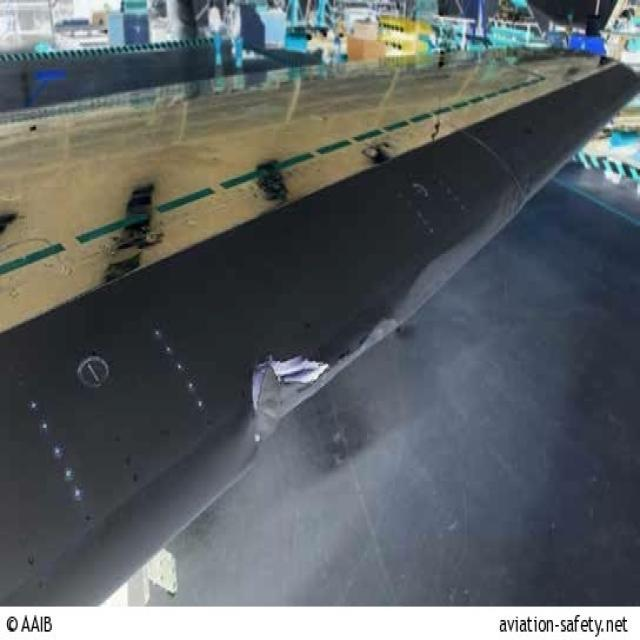crack: (249, 356, 335, 444)
dent: (361, 234, 482, 347)
